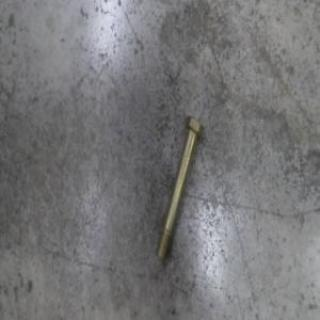Bolttrack_idkeyframe: (154, 114, 202, 262)
